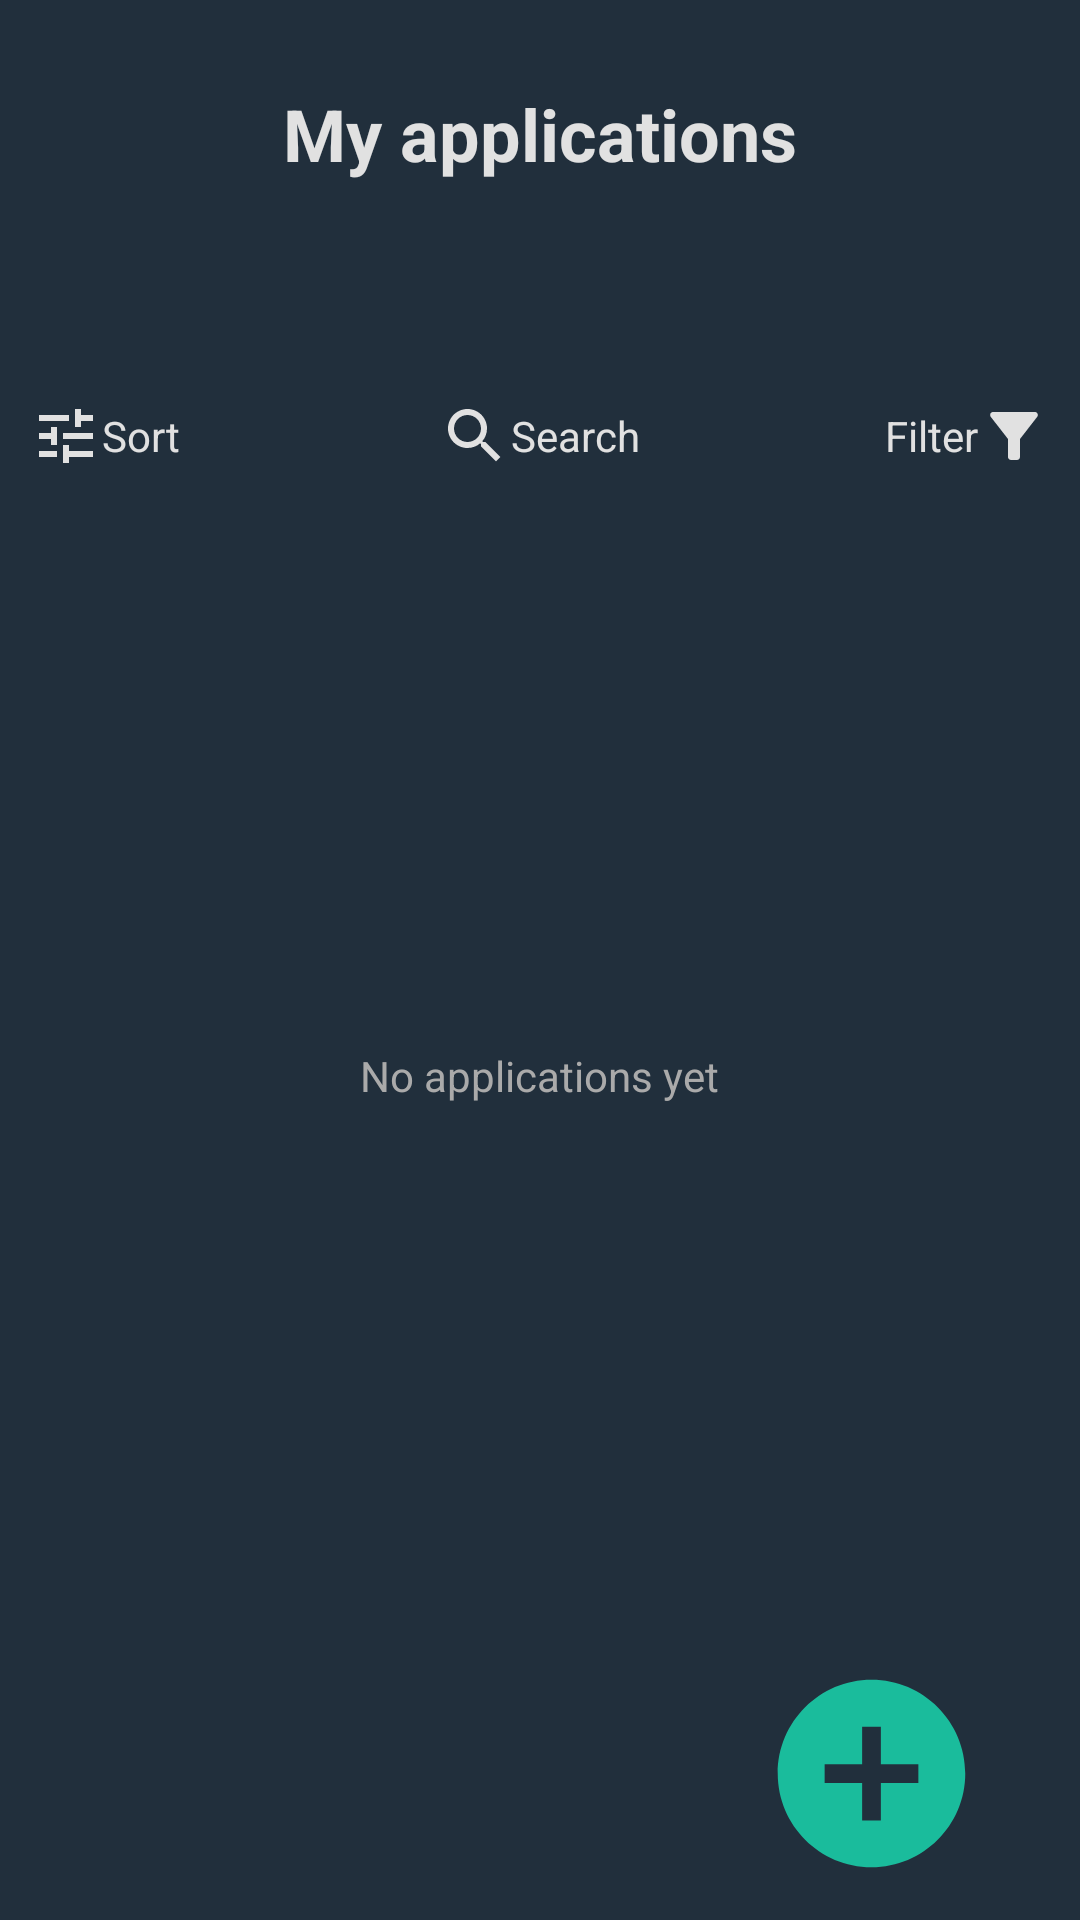

Locate icon controls on the screen. Image size 1080 × 1920, boxes as (x1, y1, x2, y2).
add circle: (777, 1679, 966, 1868)
